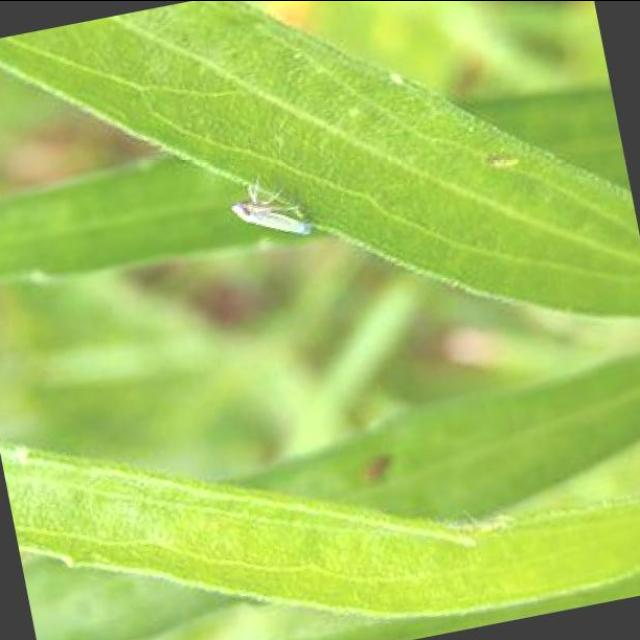green leaf hopper: (231, 184, 313, 234)
